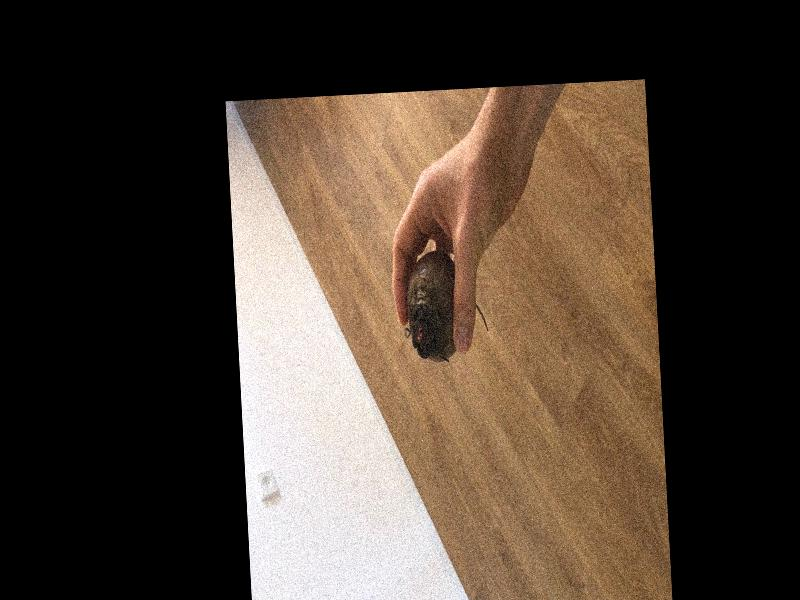Beet: (402, 249, 489, 364)
